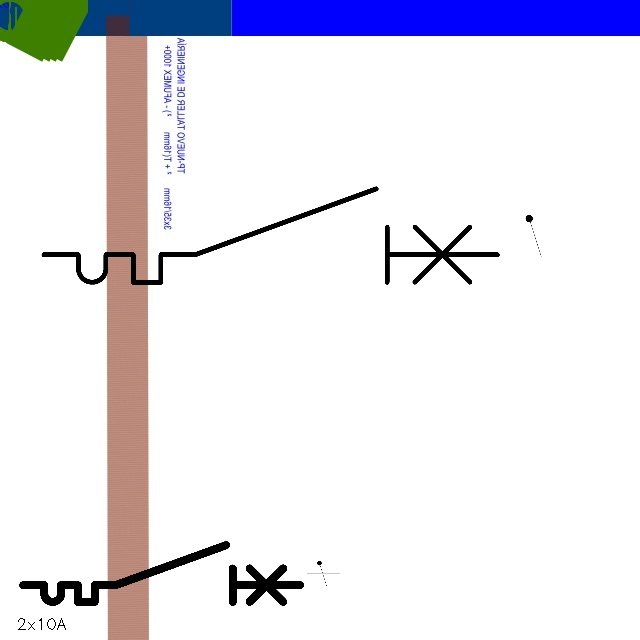interruptor_termomagnetico: (32, 177, 509, 294), (16, 538, 307, 609)
